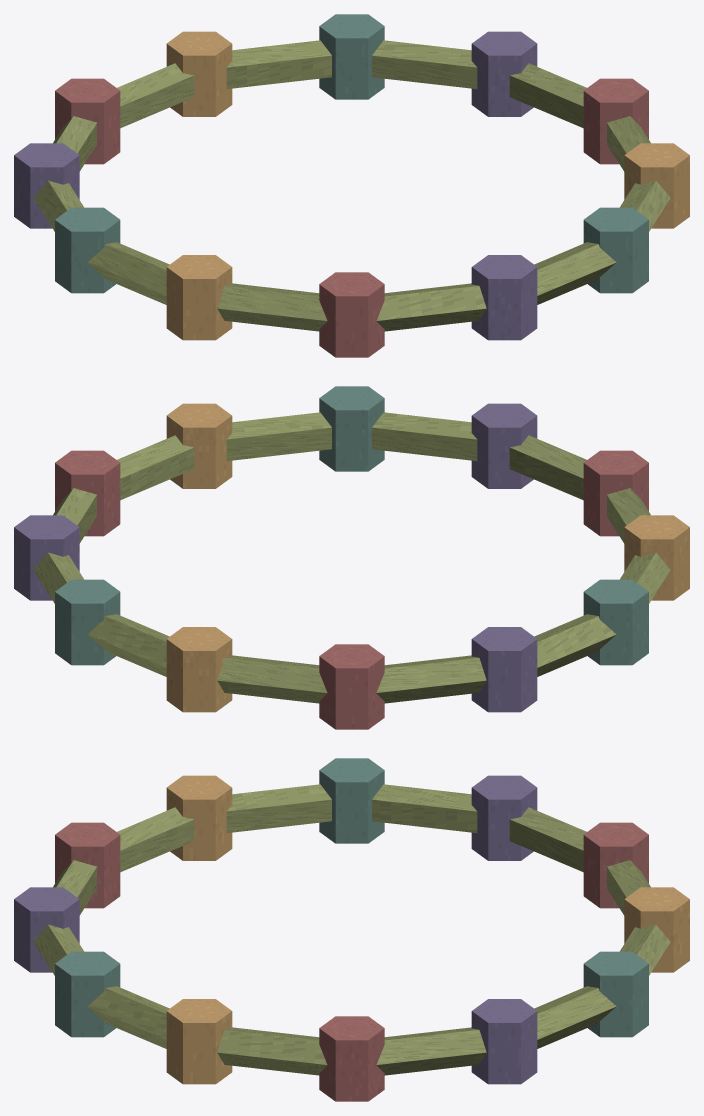
The model's file is bracelet_friendship.glb.
3 renders of one model, top to bottom at view 1: azimuth 30°, elevation 25°; view 2: azimuth 150°, elevation 25°; view 3: azimuth 270°, elevation 25°, orthographic.
Parts seen in each view (by area): view 1: block_colorful clasp 4, block_colorful clasp 3, block_colorful clasp 5, block_colorful clasp 10, block_colorful clasp 2, block_colorful clasp 6, block_colorful clasp 9, block_colorful clasp 11, block_band3, block_band4, block_band9, block_band10 (+12 smaller); view 2: block_colorful clasp 8, block_colorful clasp 7, block_colorful clasp 9, block_colorful clasp 2, block_colorful clasp 6, block_colorful clasp 10, block_colorful clasp 1, block_colorful clasp 3, block_band7, block_band8, block_band1, block_band2 (+12 smaller); view 3: block_colorful clasp 0, block_colorful clasp 1, block_colorful clasp 11, block_colorful clasp 6, block_colorful clasp 2, block_colorful clasp 10, block_colorful clasp 5, block_colorful clasp 7, block_band0, block_band11, block_band5, block_band6 (+12 smaller).
Boxes of the visible parts, bbox=[...] form: block_colorful clasp 4: bbox=[319, 272, 384, 357]; block_colorful clasp 3: bbox=[471, 255, 537, 340]; block_colorful clasp 5: bbox=[166, 255, 232, 340]; block_colorful clasp 10: bbox=[319, 14, 384, 99]; block_colorful clasp 2: bbox=[583, 207, 648, 293]; block_colorful clasp 6: bbox=[55, 207, 120, 293]; block_colorful clasp 9: bbox=[166, 31, 232, 116]; block_colorful clasp 11: bbox=[471, 31, 537, 116]; block_band3: bbox=[376, 283, 486, 331]; block_band4: bbox=[217, 283, 327, 331]; block_band9: bbox=[226, 40, 331, 88]; block_band10: bbox=[372, 40, 477, 88]; block_colorful clasp 8: bbox=[319, 644, 384, 729]; block_colorful clasp 7: bbox=[471, 627, 537, 712]; block_colorful clasp 9: bbox=[166, 627, 232, 712]; block_colorful clasp 2: bbox=[319, 386, 384, 471]; block_colorful clasp 6: bbox=[583, 579, 648, 665]; block_colorful clasp 10: bbox=[55, 579, 120, 665]; block_colorful clasp 1: bbox=[166, 403, 232, 488]; block_colorful clasp 3: bbox=[471, 403, 537, 488]; block_band7: bbox=[376, 655, 486, 703]; block_band8: bbox=[217, 655, 327, 703]; block_band1: bbox=[226, 412, 331, 460]; block_band2: bbox=[372, 412, 477, 460]; block_colorful clasp 0: bbox=[319, 1016, 384, 1101]; block_colorful clasp 1: bbox=[166, 999, 232, 1084]; block_colorful clasp 11: bbox=[471, 999, 537, 1084]; block_colorful clasp 6: bbox=[319, 758, 384, 843]; block_colorful clasp 2: bbox=[55, 951, 120, 1037]; block_colorful clasp 10: bbox=[583, 951, 648, 1037]; block_colorful clasp 5: bbox=[166, 775, 232, 860]; block_colorful clasp 7: bbox=[471, 775, 537, 860]; block_band0: bbox=[217, 1027, 327, 1075]; block_band11: bbox=[376, 1027, 486, 1075]; block_band5: bbox=[226, 784, 331, 832]; block_band6: bbox=[372, 784, 477, 832].
Bounding box in the file's own units: 0.059 × 0.006 × 0.0598.
1 material, 1 textured.
